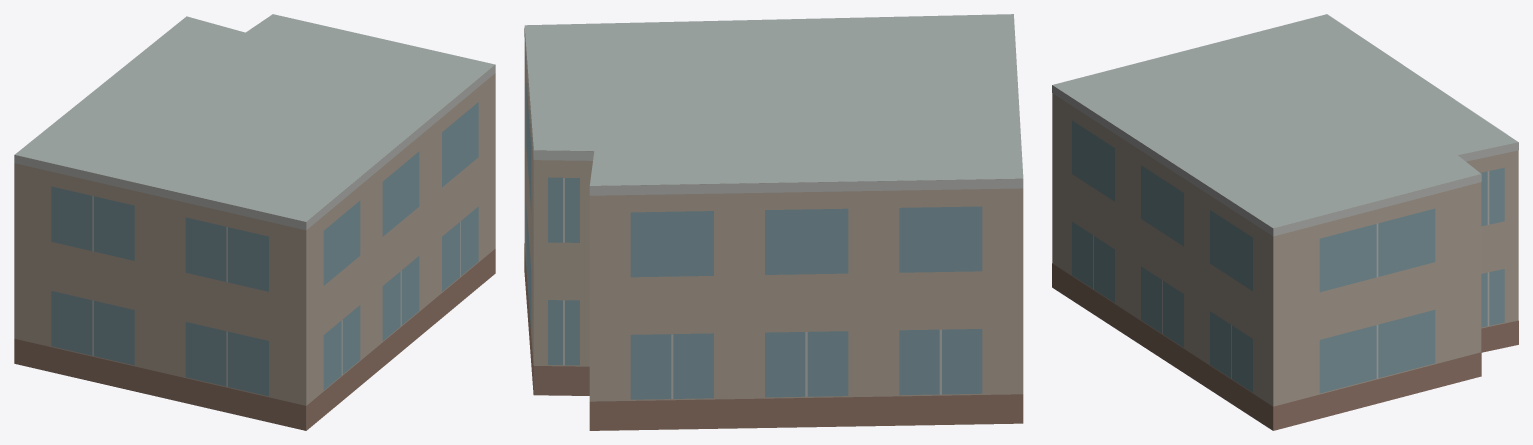
File: survey-upis-33007018.glb
The picture shows the model from 3 angles, left to right: view 1: azimuth 30°, elevation 25°; view 2: azimuth 150°, elevation 25°; view 3: azimuth 270°, elevation 25°; orthographic projection. The views are drawn at different scales.
Parts seen in each view (by area): view 1: survey-upis-33007018.tmp; view 2: survey-upis-33007018.tmp; view 3: survey-upis-33007018.tmp.
Boxes of the visible parts, <box> form: survey-upis-33007018.tmp: <box>14,14,495,430</box>; survey-upis-33007018.tmp: <box>524,14,1023,430</box>; survey-upis-33007018.tmp: <box>1052,14,1518,430</box>.
Size of the model in its own units: 13.86 by 6.1 by 12.75.
